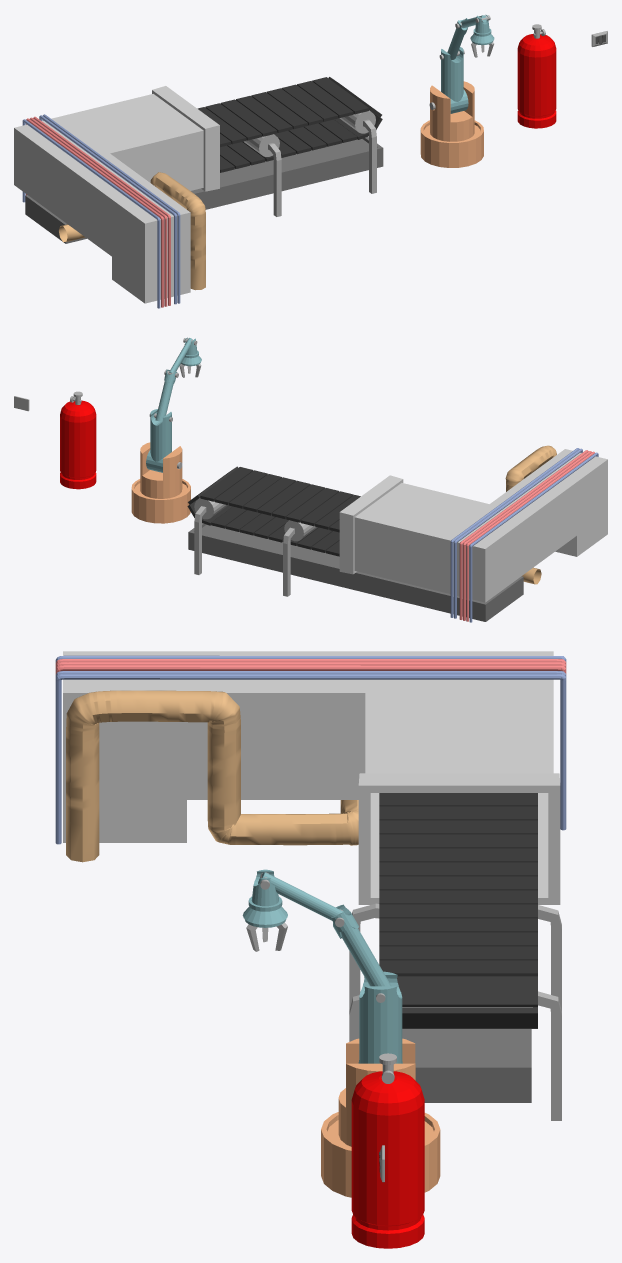
The picture shows the model from 3 angles, top to bottom: view 1: azimuth 30°, elevation 25°; view 2: azimuth 150°, elevation 25°; view 3: azimuth 270°, elevation 25°; orthographic projection. The views are drawn at different scales.
Parts seen in each view (by area): view 1: squarepipe, pCube270, pCylinder42, pCylinder62, pipe, nurbsToPoly1, pCylinder47, nurbsToPoly3, smallpipe1, smallpipe, nurbsToPoly2, nurbsToPoly4 (+19 smaller); view 2: squarepipe, pCube270, pCylinder42, pCylinder62, pipe, pCylinder47, nurbsToPoly1, nurbsToPoly4, smallpipe1, smallpipe, nurbsToPoly2, nurbsToPoly3 (+12 smaller); view 3: squarepipe, pipe, pCylinder62, pCube270, pCylinder42, smallpipe, pCube264, pCylinder47, nurbsToPoly4, pCube265, pCube241, pCube230 (+21 smaller).
Boxes of the visible parts, <box> form: squarepipe: <box>14,86,219,303</box>; pCube270: <box>25,137,383,243</box>; pCylinder42: <box>420,81,483,167</box>; pCylinder62: <box>517,34,556,128</box>; pipe: <box>59,172,205,290</box>; nurbsToPoly1: <box>22,119,160,308</box>; pCylinder47: <box>441,47,463,101</box>; nurbsToPoly3: <box>30,117,167,306</box>; smallpipe1: <box>39,115,176,304</box>; smallpipe: <box>42,114,180,303</box>; nurbsToPoly2: <box>26,118,163,307</box>; nurbsToPoly4: <box>33,116,170,305</box>; squarepipe: <box>339,449,607,602</box>; pCube270: <box>188,523,523,621</box>; pCylinder42: <box>131,442,190,523</box>; pCylinder62: <box>60,400,96,489</box>; pipe: <box>505,445,556,584</box>; pCylinder47: <box>150,409,171,461</box>; nurbsToPoly1: <box>469,452,598,622</box>; nurbsToPoly4: <box>459,450,588,619</box>; smallpipe1: <box>454,448,582,618</box>; smallpipe: <box>450,448,579,617</box>; nurbsToPoly2: <box>466,451,594,621</box>; nurbsToPoly3: <box>463,451,591,620</box>; squarepipe: <box>63,651,560,904</box>; pipe: <box>66,690,358,862</box>; pCylinder62: <box>351,1071,424,1248</box>; pCube270: <box>402,1029,531,1102</box>; pCylinder42: <box>321,1038,440,1197</box>; smallpipe: <box>55,674,566,844</box>; pCube264: <box>397,976,537,1006</box>; pCylinder47: <box>359,971,402,1063</box>; nurbsToPoly4: <box>55,665,566,674</box>; pCube265: <box>402,1007,537,1027</box>; pCube241: <box>379,960,537,976</box>; pCube230: <box>379,862,537,876</box>.
Size of the model in its own units: 52.58 by 15.82 by 22.51.
